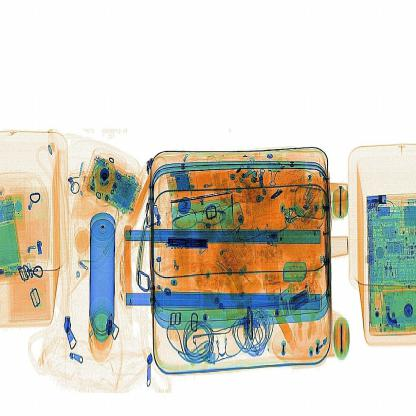scissors: (163, 231, 214, 253)
